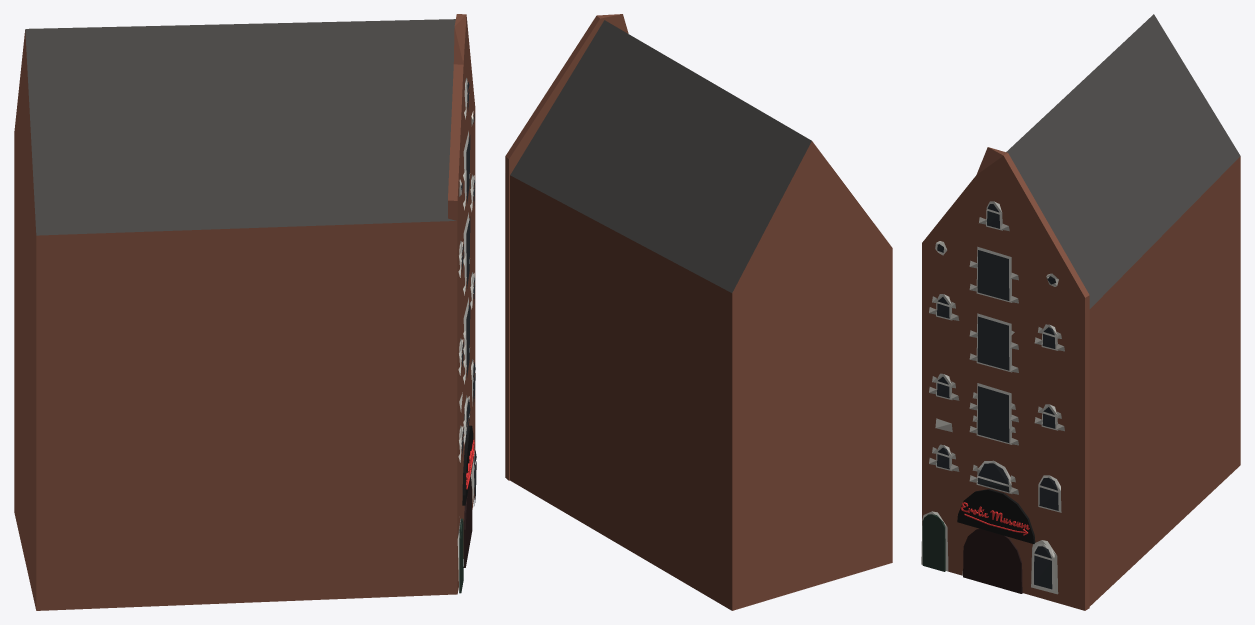
The model's file is erotic-museum.lod1.glb.
3 renders of one model, left to right at view 1: azimuth 30°, elevation 25°; view 2: azimuth 150°, elevation 25°; view 3: azimuth 270°, elevation 25°, orthographic. The views are drawn at different scales.
Parts seen in each view (by area): view 1: erotic-museum; view 2: erotic-museum; view 3: erotic-museum.
Part boxes in pixels (x1=…): erotic-museum: x1=14, y1=14, x2=476, y2=610; erotic-museum: x1=505, y1=14, x2=892, y2=610; erotic-museum: x1=921, y1=14, x2=1240, y2=610.
Size of the model in its own units: 13.28 by 14.99 by 9.98.
